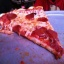pepperoni: (32, 29, 58, 41), (1, 10, 18, 27), (12, 23, 24, 34), (24, 13, 37, 22), (36, 17, 49, 23)
pizza: (1, 5, 61, 60)
